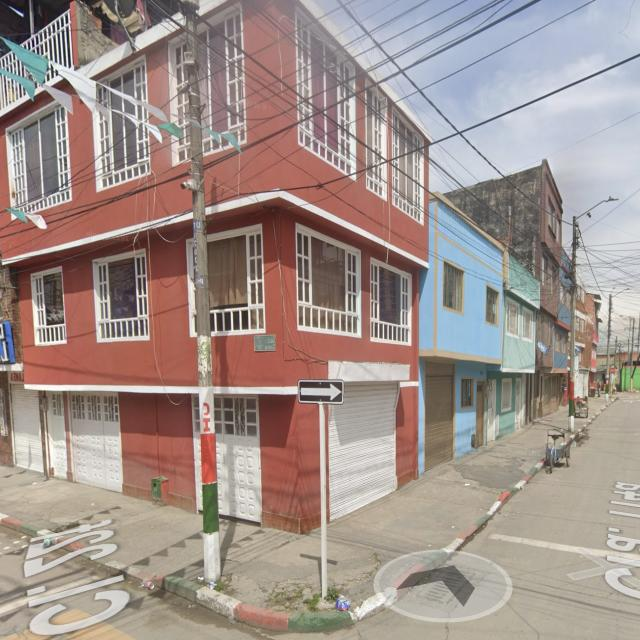Fachada: (0, 0, 435, 533), (418, 194, 503, 473), (495, 253, 540, 436)
Poste: (183, 0, 213, 396), (201, 436, 220, 580), (568, 216, 577, 432), (605, 294, 612, 403)
